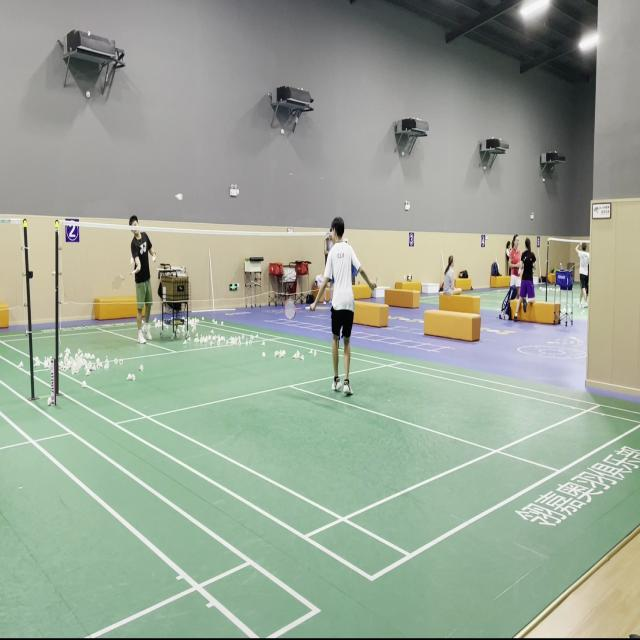shuttlecock: (175, 191, 184, 202)
